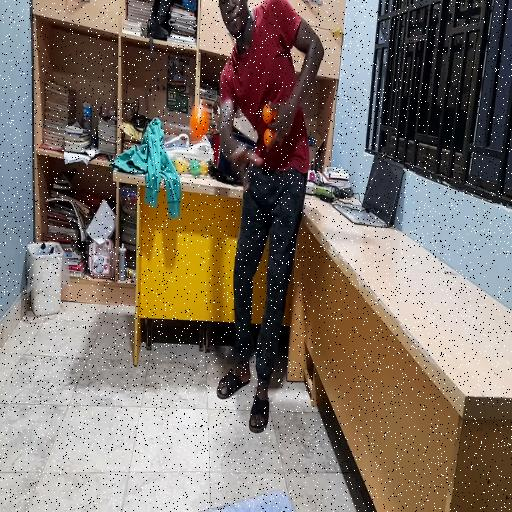plastic-ball: (188, 105, 209, 140)
